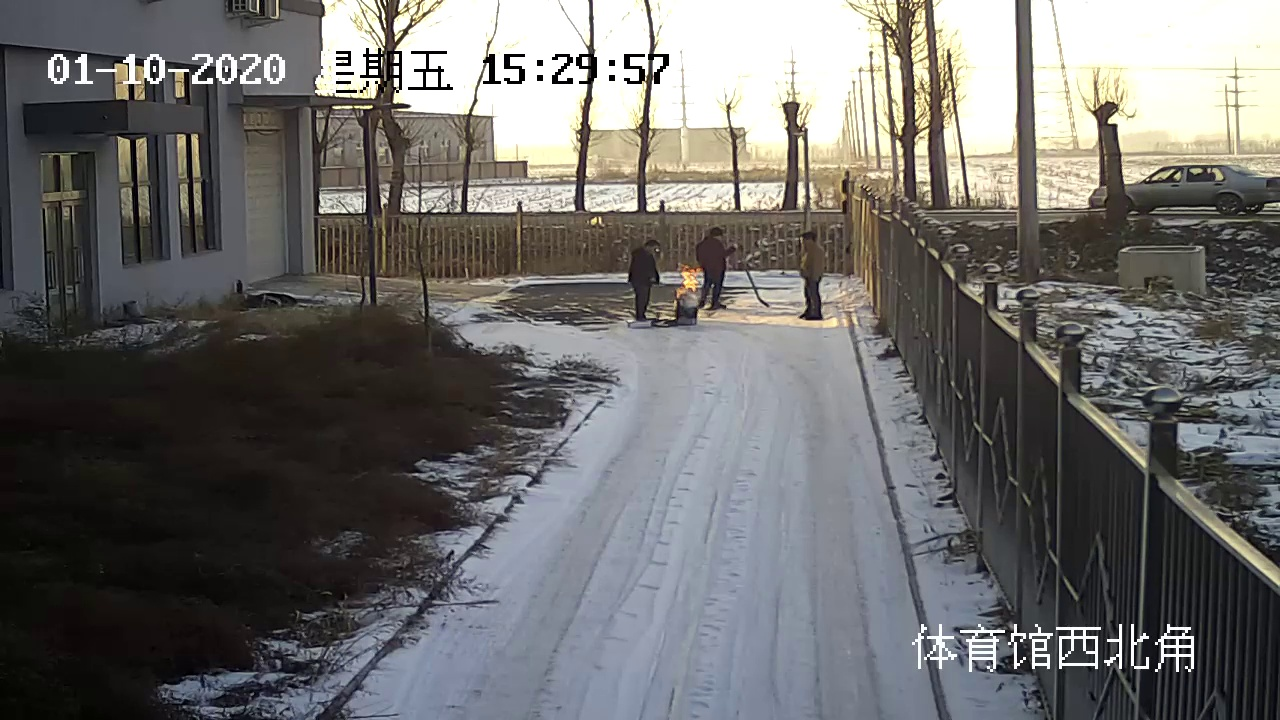fire: (666, 267, 696, 297)
